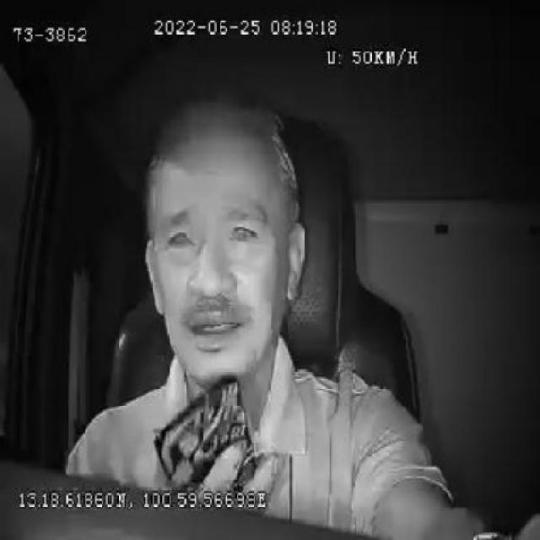phone: (154, 371, 254, 488)
